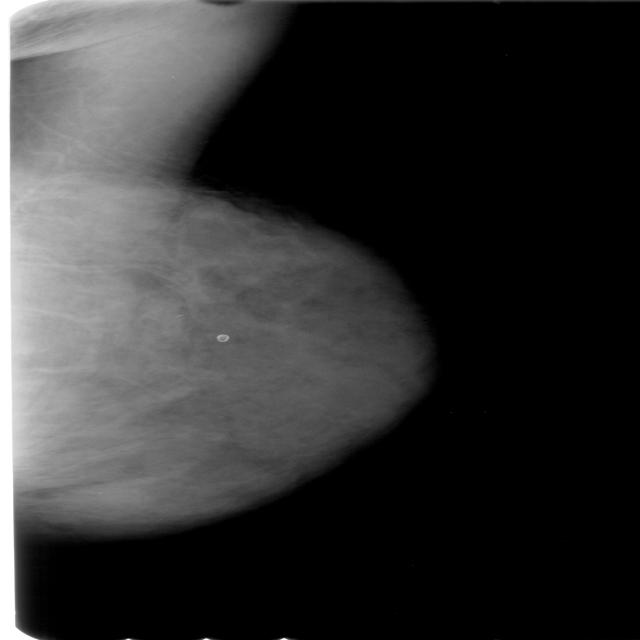normal: (0, 115, 448, 562)
